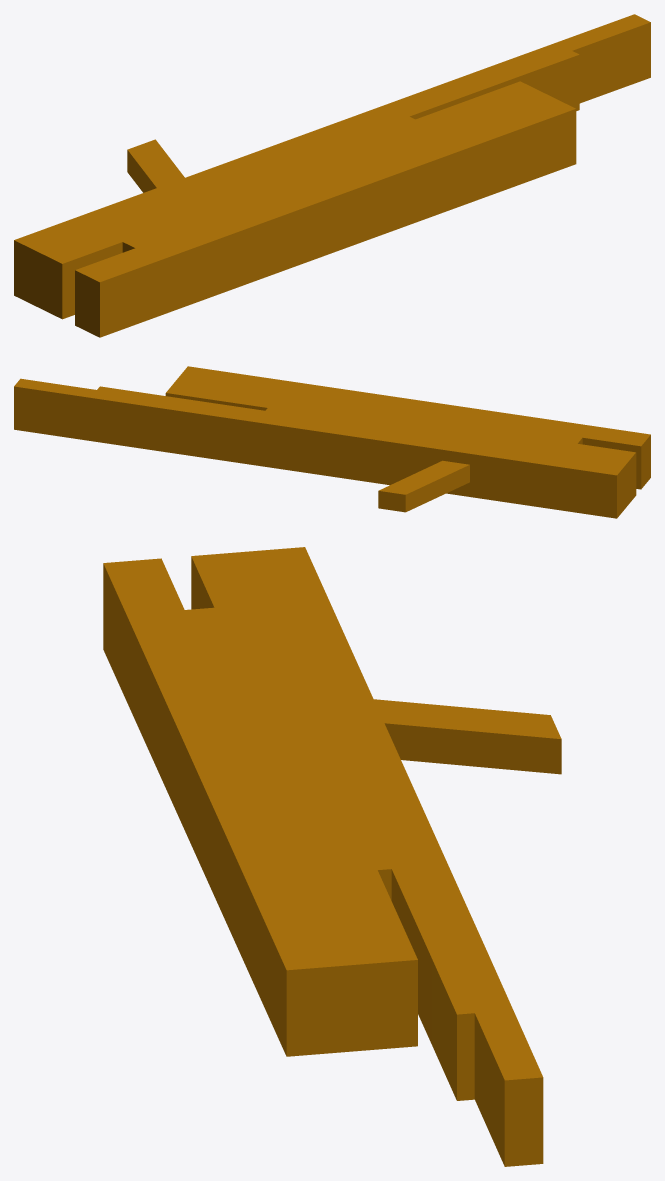
File: Wood_Debris.fbx
3 renders of one model, top to bottom at view 1: azimuth 30°, elevation 25°; view 2: azimuth 150°, elevation 25°; view 3: azimuth 270°, elevation 25°, orthographic. The views are drawn at different scales.
Visible parts, largest first — view 1: pCube1; view 2: pCube1; view 3: pCube1.
Boxes of the visible parts, x1=… form: pCube1: x1=14, y1=14, x2=650, y2=337; pCube1: x1=14, y1=366, x2=650, y2=518; pCube1: x1=103, y1=547, x2=561, y2=1166.
Bounding box in the file's own units: 2.93 × 0.2218 × 1.07.
